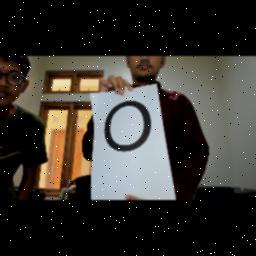o: (99, 99, 157, 153)
